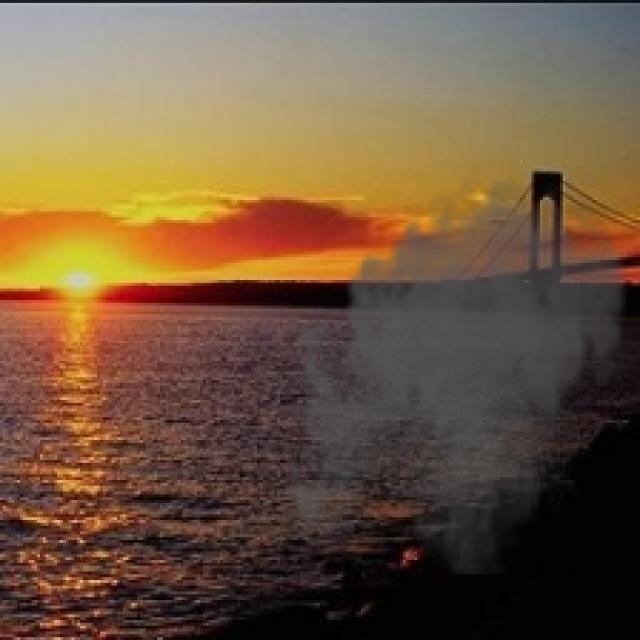Smoke: (274, 160, 634, 574)
